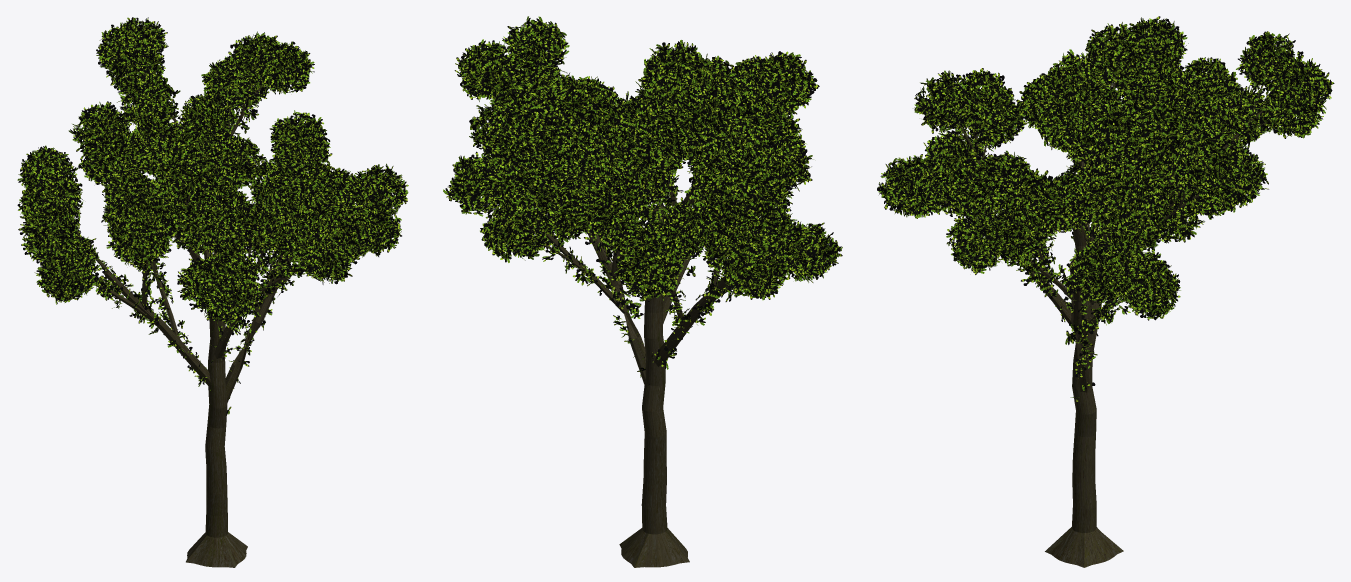
File: emergent_fig_v03.fbx
3 renders of one model, left to right at view 1: azimuth 30°, elevation 25°; view 2: azimuth 150°, elevation 25°; view 3: azimuth 270°, elevation 25°, orthographic. The views are drawn at different scales.
Visible parts, largest first — view 1: emergent_fig_v03; view 2: emergent_fig_v03; view 3: emergent_fig_v03.
Boxes of the visible parts, x1,y1,x2,y2 form: emergent_fig_v03: [17, 17, 408, 567]; emergent_fig_v03: [443, 16, 842, 567]; emergent_fig_v03: [877, 16, 1334, 567].
Bounding box in the file's own units: 3683 × 4060 × 5112.
Materials: 2 (2 with a texture image).
